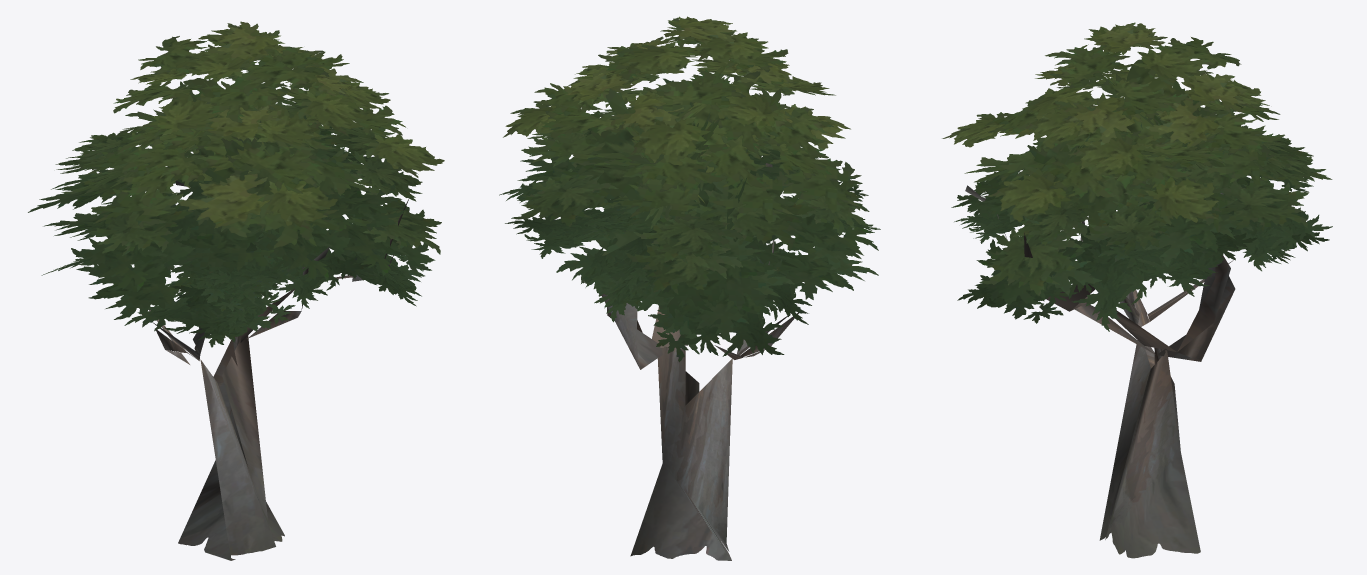
The model's file is tree_oak_01.glb.
3 views of the same model, side by side, from view 1: azimuth 30°, elevation 25°; view 2: azimuth 150°, elevation 25°; view 3: azimuth 270°, elevation 25° (orthographic).
Parts seen in each view (by area): view 1: tree_oak_01; view 2: tree_oak_01; view 3: tree_oak_01.
Part boxes in pixels (x1=…): tree_oak_01: x1=28, y1=21, x2=444, y2=560; tree_oak_01: x1=499, y1=16, x2=880, y2=560; tree_oak_01: x1=942, y1=22, x2=1332, y2=558.
Size of the model in its own units: 5.5 by 7.51 by 5.68.
1 material, 1 textured.
